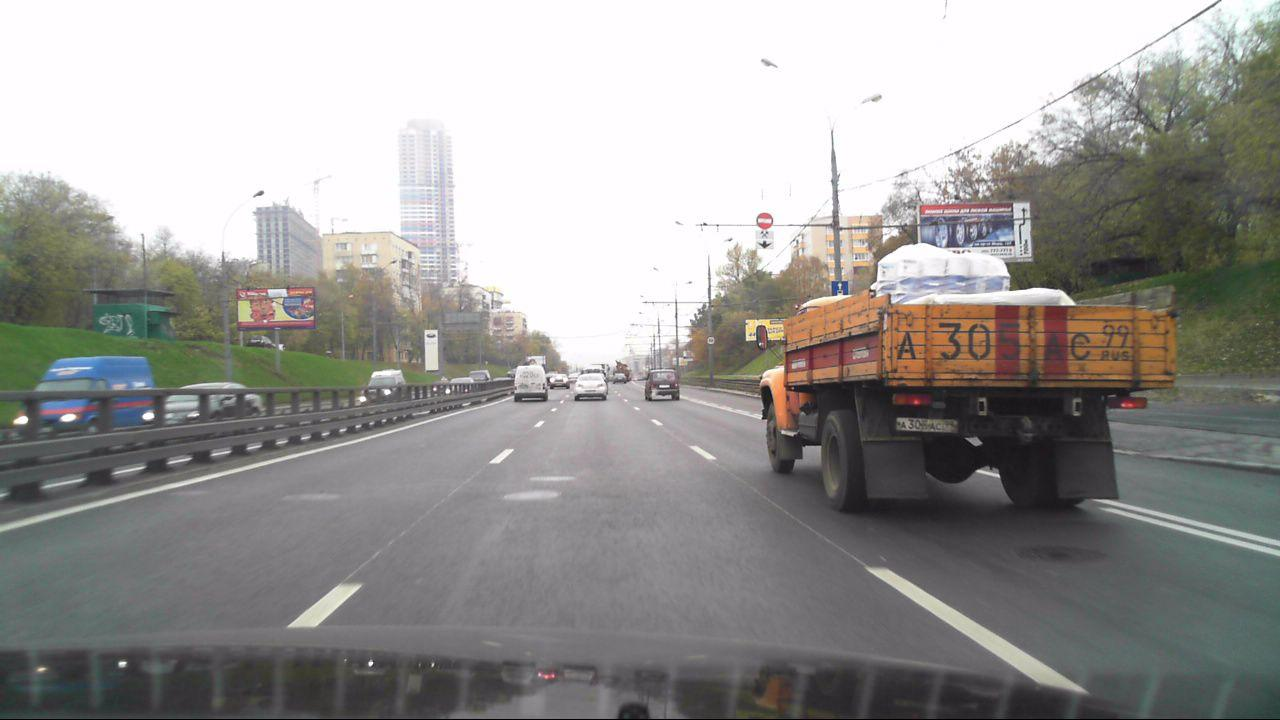road_sign: (754, 228, 774, 249), (755, 211, 773, 229)
